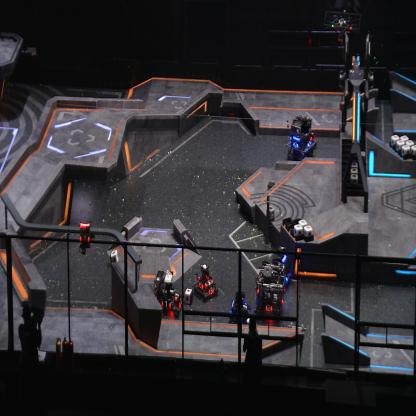car: (255, 261, 285, 323), (284, 113, 317, 164), (153, 270, 184, 316), (269, 245, 292, 288), (192, 264, 218, 302), (228, 290, 251, 327)
